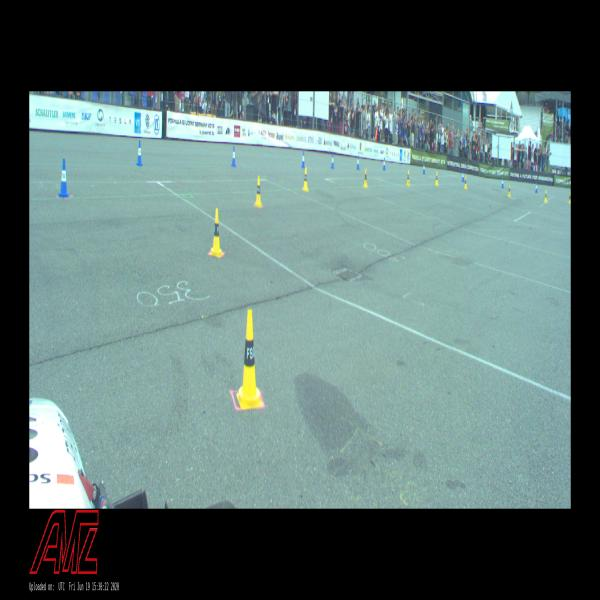blue_cone: (57, 158, 70, 198), (137, 140, 143, 167), (231, 146, 236, 166), (301, 151, 305, 167), (356, 155, 360, 169), (331, 154, 334, 168), (501, 177, 504, 188), (535, 182, 538, 193), (462, 170, 464, 182), (383, 158, 385, 170), (423, 162, 425, 174)
yellow_cone: (236, 309, 262, 410), (210, 209, 222, 256), (255, 176, 262, 207), (303, 167, 308, 191), (406, 170, 410, 186), (364, 168, 367, 187), (544, 190, 548, 202), (464, 176, 467, 189), (435, 172, 438, 185), (508, 185, 510, 196)
